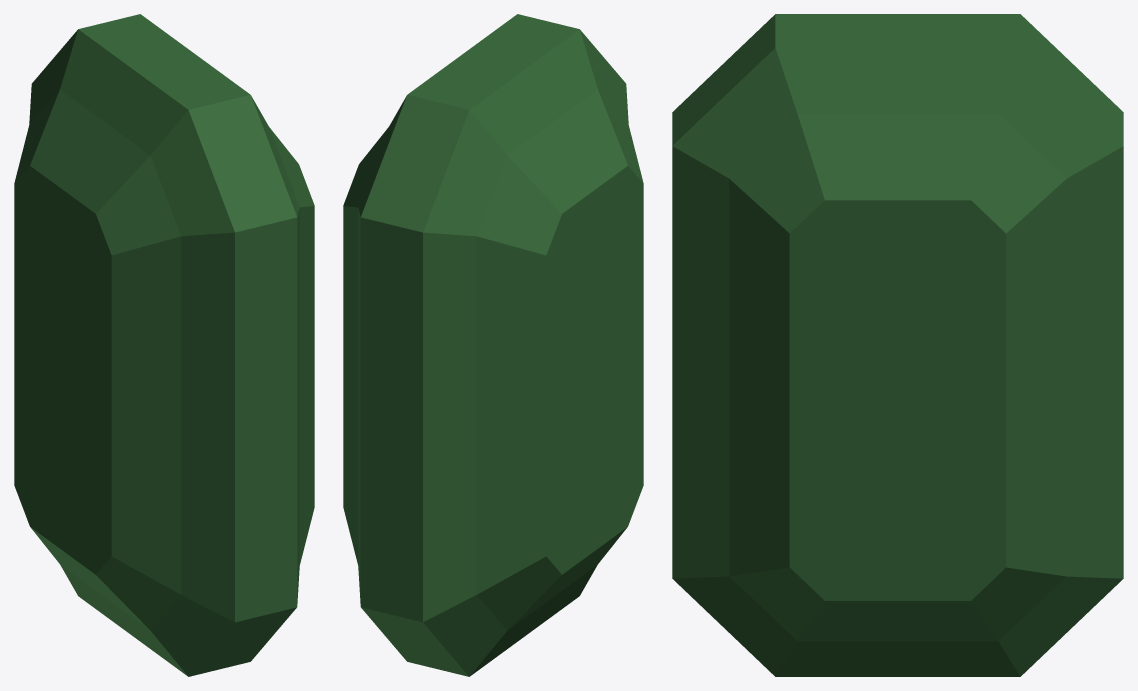
The model's file is SM_Ruby.glb.
3 views of the same model, side by side, from view 1: azimuth 30°, elevation 25°; view 2: azimuth 150°, elevation 25°; view 3: azimuth 270°, elevation 25° (orthographic). The views are drawn at different scales.
Parts seen in each view (by area): view 1: SM_Ruby; view 2: SM_Ruby; view 3: SM_Ruby.
Boxes of the visible parts, bbox=[...] form: SM_Ruby: bbox=[14, 14, 314, 676]; SM_Ruby: bbox=[343, 14, 643, 676]; SM_Ruby: bbox=[672, 14, 1123, 676].
Size of the model in its own units: 0.075 by 0.2 by 0.13.
1 material, 1 textured.
